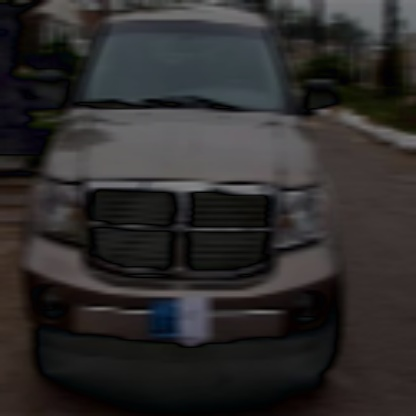Vehicle: (22, 7, 344, 377)
